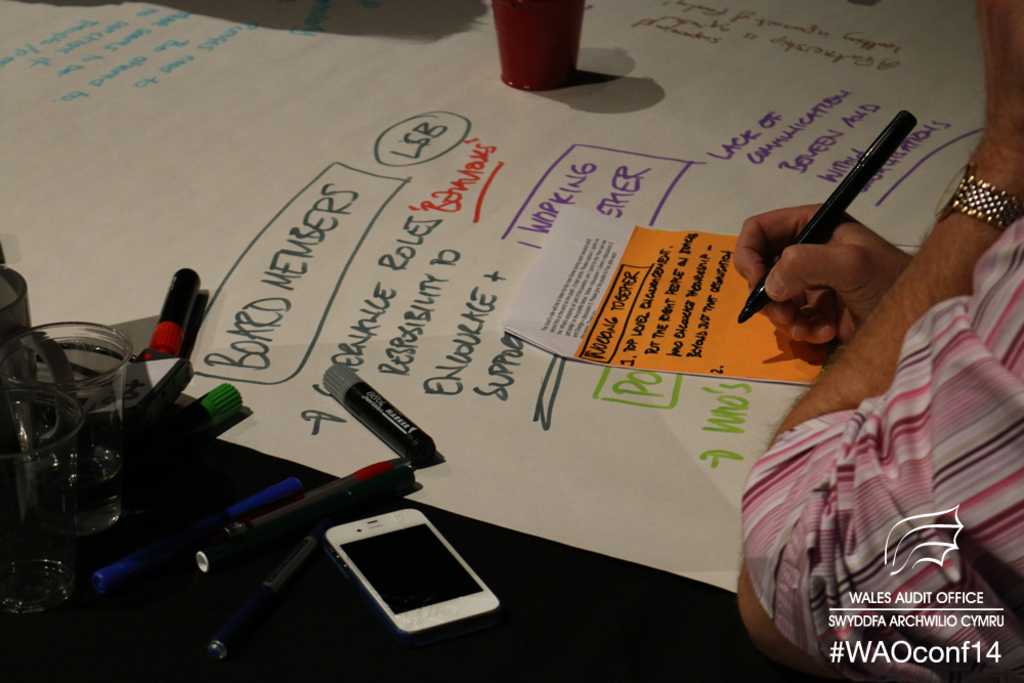Mobile-phone: (323, 503, 507, 643)
